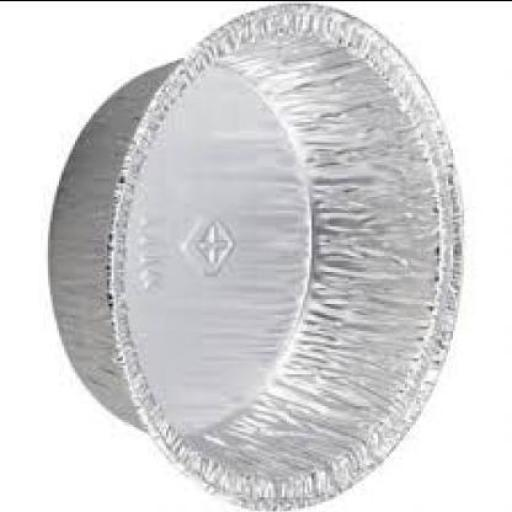metal: (50, 4, 466, 510)
